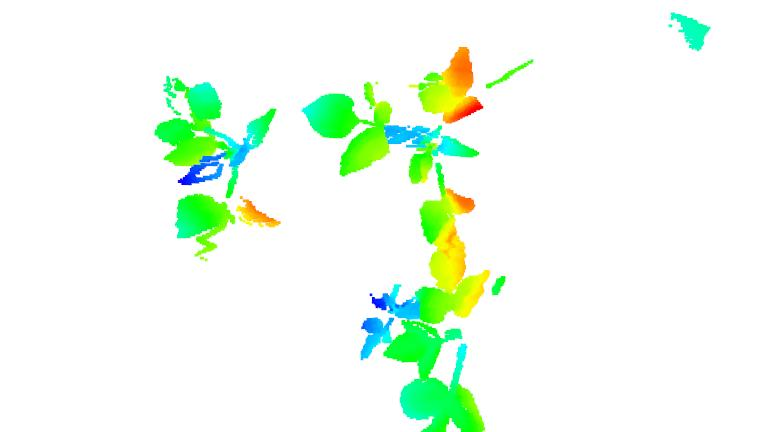mungbean: (299, 47, 501, 243), (356, 227, 500, 432), (151, 69, 288, 264)
